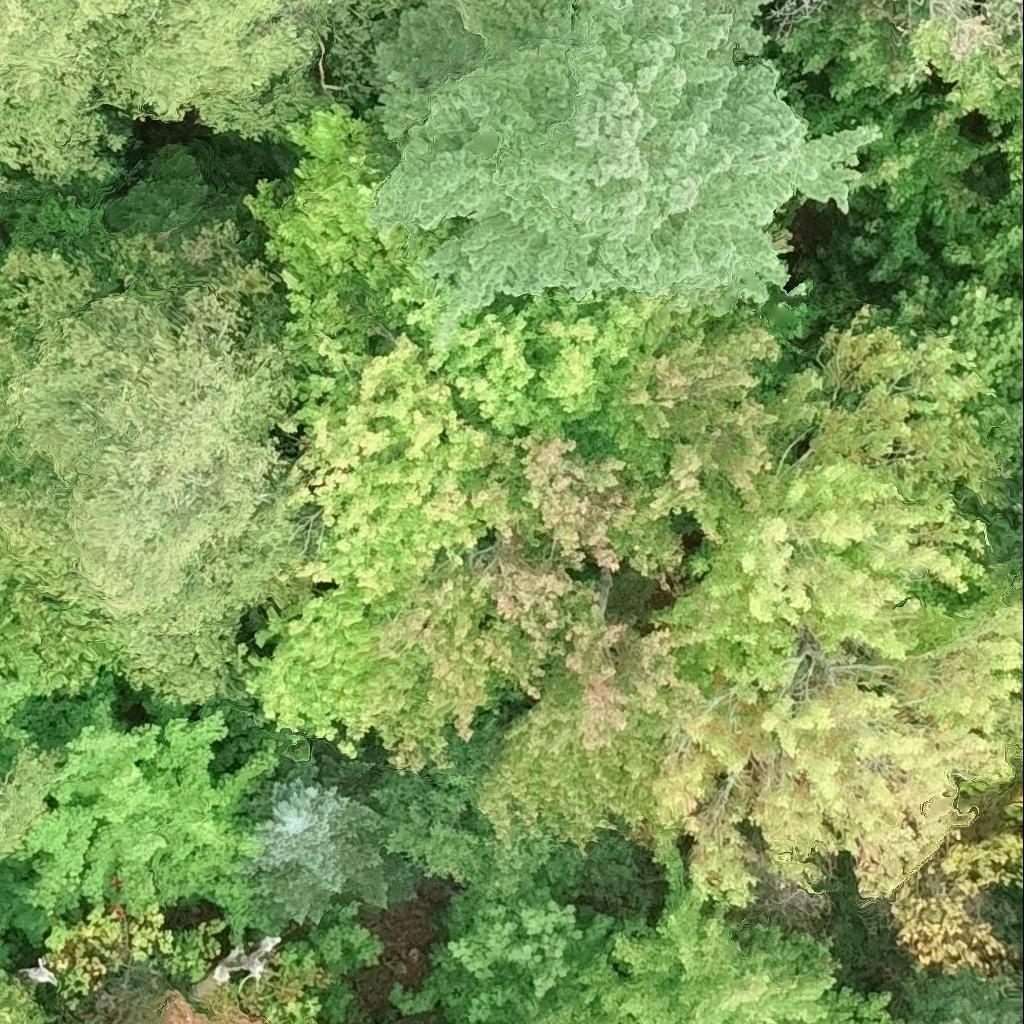crown: (377, 295, 823, 775), (373, 0, 883, 348), (236, 330, 501, 760), (9, 285, 310, 638), (0, 0, 326, 187), (393, 213, 665, 437), (242, 102, 417, 367), (906, 0, 1023, 129), (980, 85, 1023, 179)
